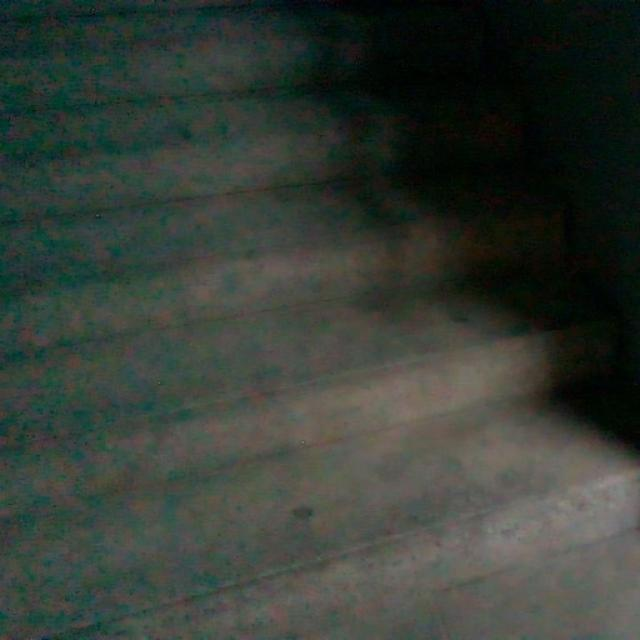stair: (0, 13, 621, 636)
